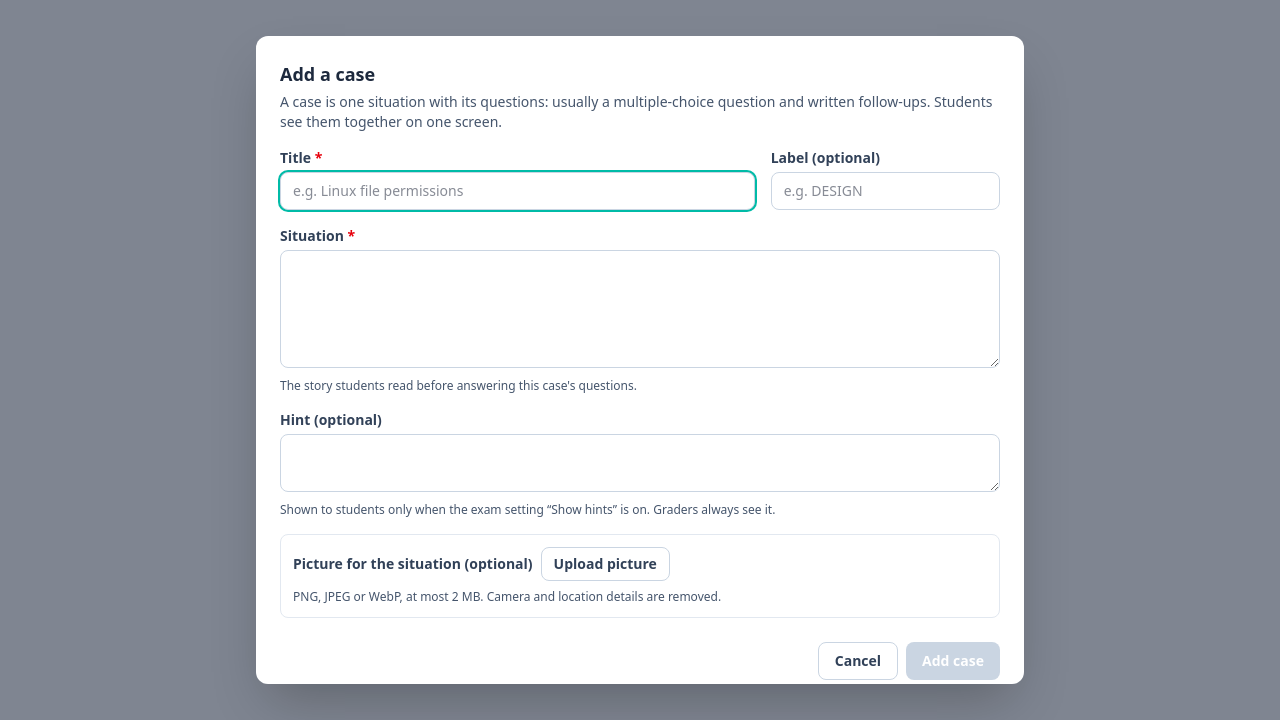
Scenario: closing an editor with unsaved changes › asks first after typing, and Keep editing keeps the text
Later steps or results of the test are not shown.
In the field labelled "Title *": (517, 191) [280,172,755,210], type "Phishing at the front desk"
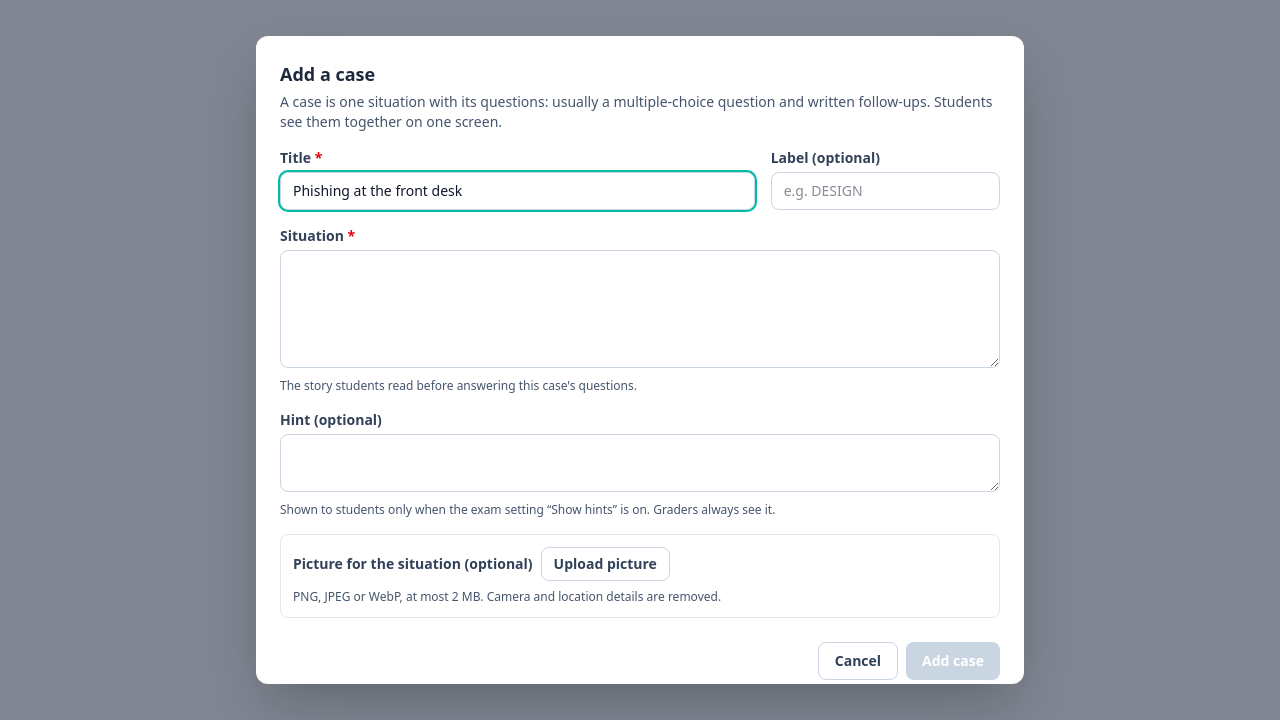
Click the button "Cancel": (858, 661) [818,642,898,680]
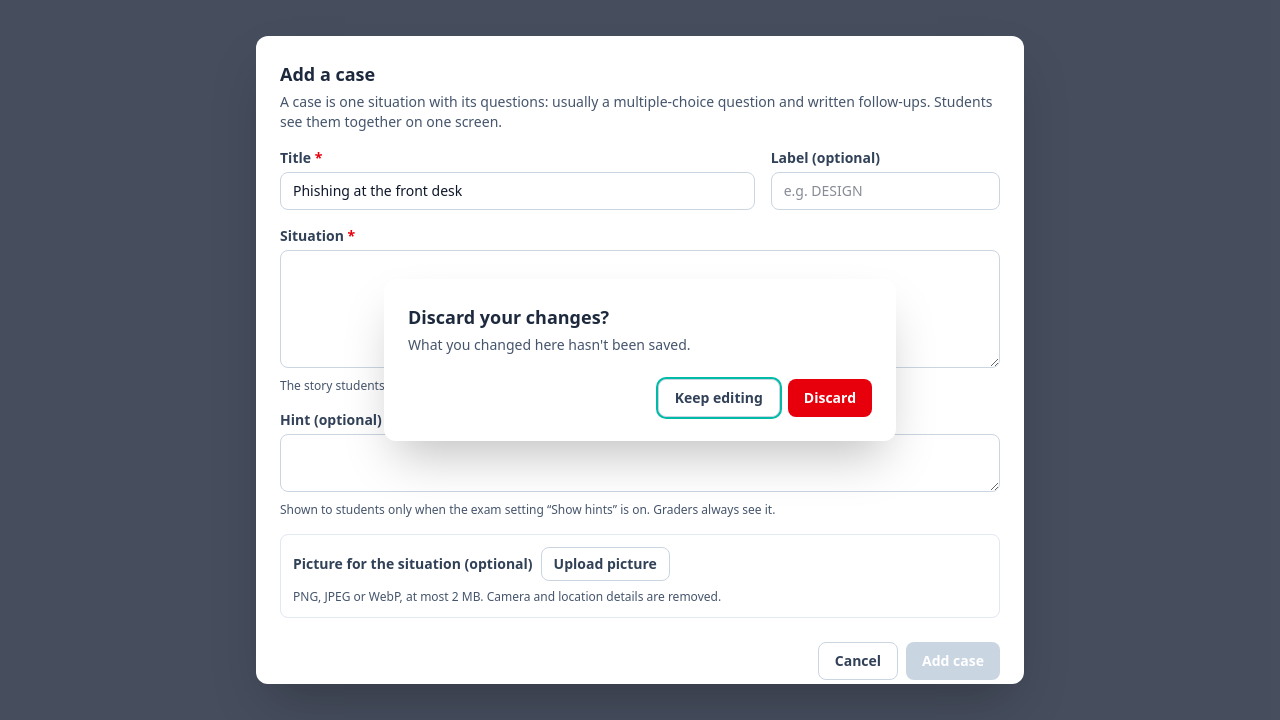
Check: the heading "Discard your changes?" is shown, box [408,305,609,329]
